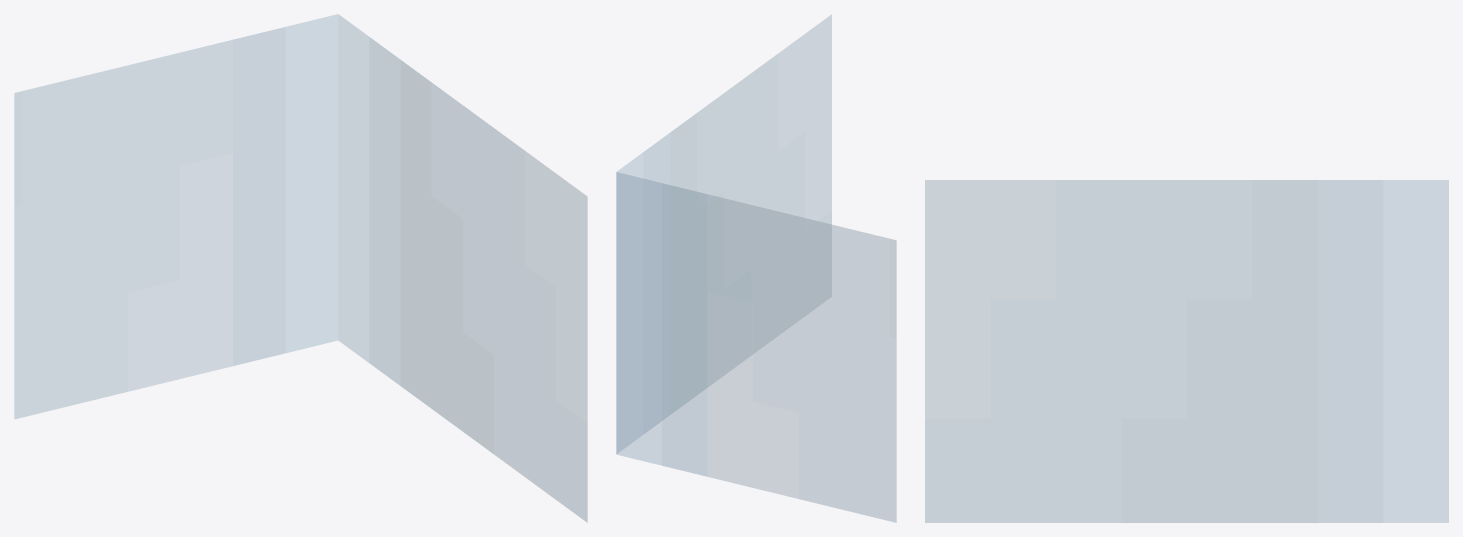
The picture shows the model from 3 angles, left to right: view 1: azimuth 30°, elevation 25°; view 2: azimuth 150°, elevation 25°; view 3: azimuth 270°, elevation 25°; orthographic projection. The views are drawn at different scales.
Bounding box in the file's own units: 0.375 × 0.3613 × 0.5.
1 material, 1 textured.
